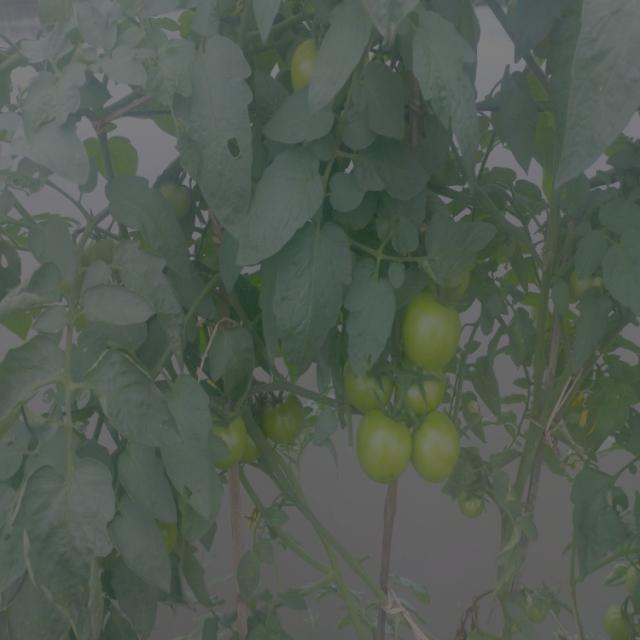tomato: (402, 284, 469, 373), (355, 413, 415, 483), (339, 350, 395, 411), (418, 418, 470, 483), (258, 388, 312, 448), (209, 410, 259, 469), (290, 26, 324, 97), (403, 375, 457, 417), (566, 266, 614, 301), (158, 174, 196, 218), (456, 487, 491, 521), (85, 226, 118, 262), (610, 600, 640, 639)
